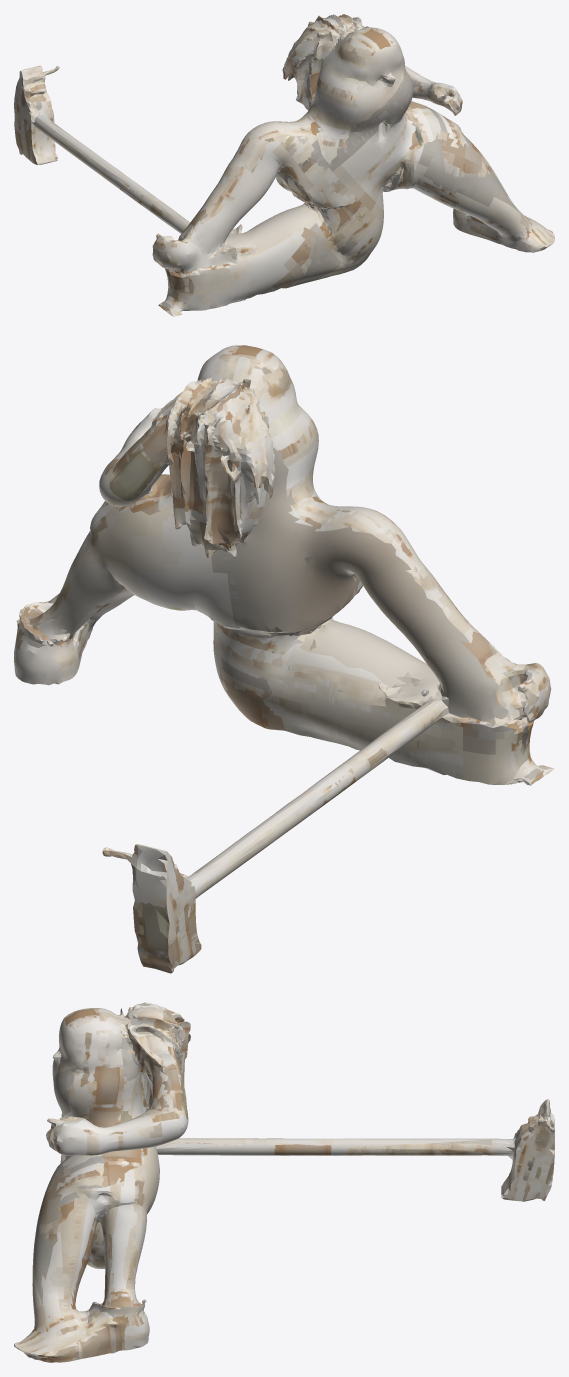
File: female_character.gltf
3 renders of one model, top to bottom at view 1: azimuth 30°, elevation 25°; view 2: azimuth 150°, elevation 25°; view 3: azimuth 270°, elevation 25°, orthographic. The views are drawn at different scales.
Visible parts, largest first — view 1: FemalGameCharacter; view 2: FemalGameCharacter; view 3: FemalGameCharacter.
Part boxes in pixels (x1,y1,x2,y2): FemalGameCharacter: (14,14,554,316); FemalGameCharacter: (14,345,554,973); FemalGameCharacter: (14,1002,554,1362).
Bounding box in the file's own units: 2.82 × 1.7 × 3.16.
Materials: 1 (1 with a texture image).
